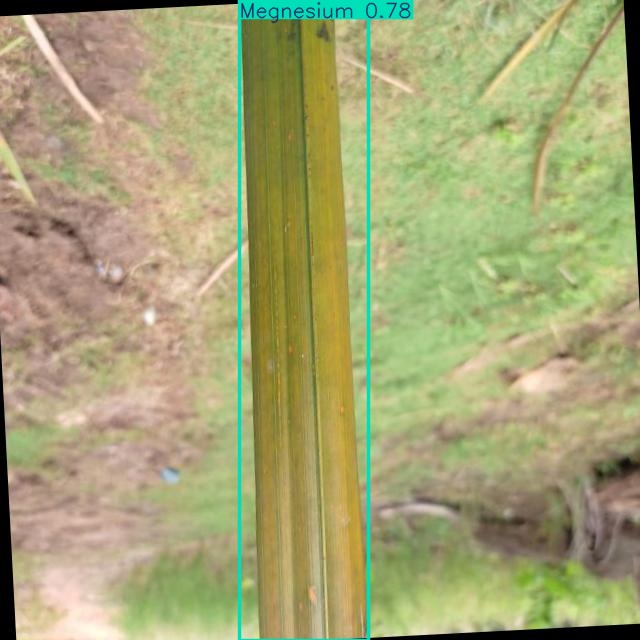Megnesium: (240, 0, 368, 640)
